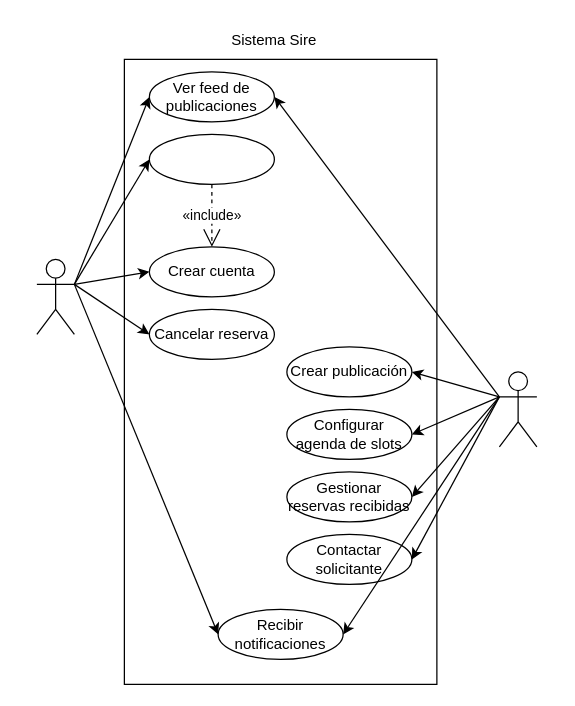
Image size: 575x706. Some labels were removed from this diagram. Each missing label, with the centre of its shape:
Publicador: [517,409]
Reservar slot: [211,158]
Solicitante: [55,296]
